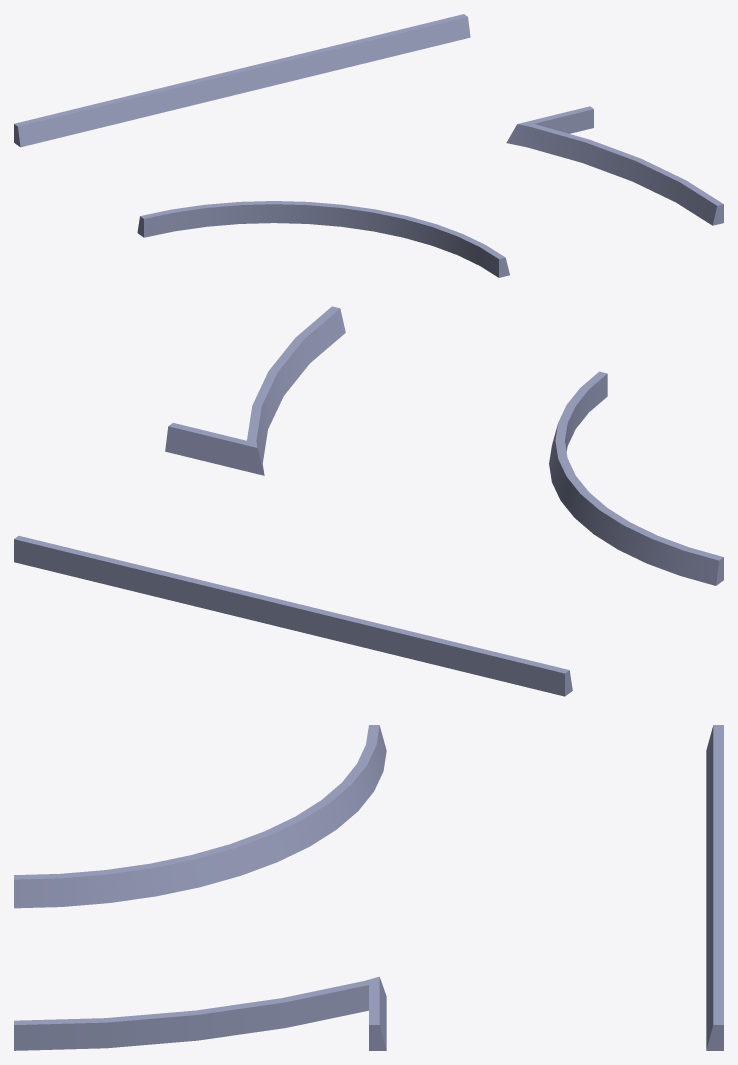
File: road-curve-intersection-barrier.glb
3 renders of one model, top to bottom at view 1: azimuth 30°, elevation 25°; view 2: azimuth 150°, elevation 25°; view 3: azimuth 270°, elevation 25°, orthographic. The views are drawn at different scales.
Parts seen in each view (by area): view 1: road-curve-intersection-barrier; view 2: road-curve-intersection-barrier; view 3: road-curve-intersection-barrier.
Part boxes in pixels (x1=…): road-curve-intersection-barrier: x1=14, y1=14, x2=723, y2=277; road-curve-intersection-barrier: x1=14, y1=306, x2=723, y2=696; road-curve-intersection-barrier: x1=14, y1=725, x2=723, y2=1050.
Size of the model in its own units: 2 by 0.08 by 2.
Materials: 1 (1 with a texture image).
